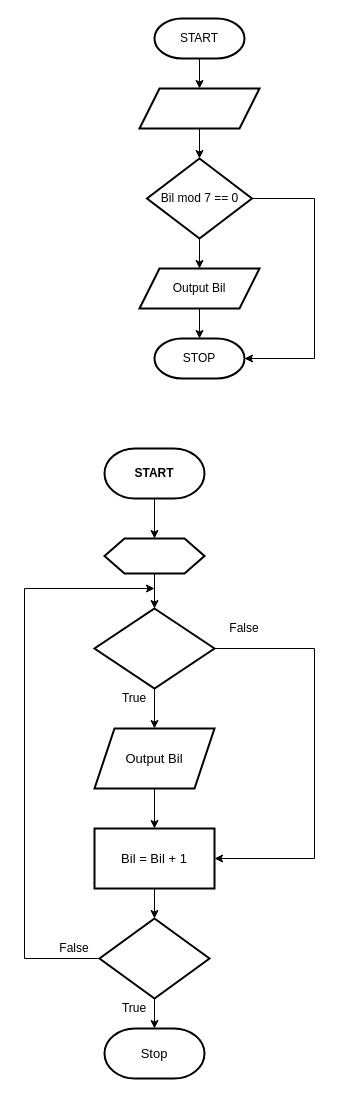
Some shapes in this 340 by 1096 pixel diagram are drawn without their labels. Here are the shapes that lost their labels. From the top down, the box of each, then its label:
(138, 87, 260, 129): Input Bil
(103, 537, 205, 574): Bil = 1
(93, 607, 215, 689): Bil mod 2 == 1
(98, 917, 210, 999): Bil > 100
